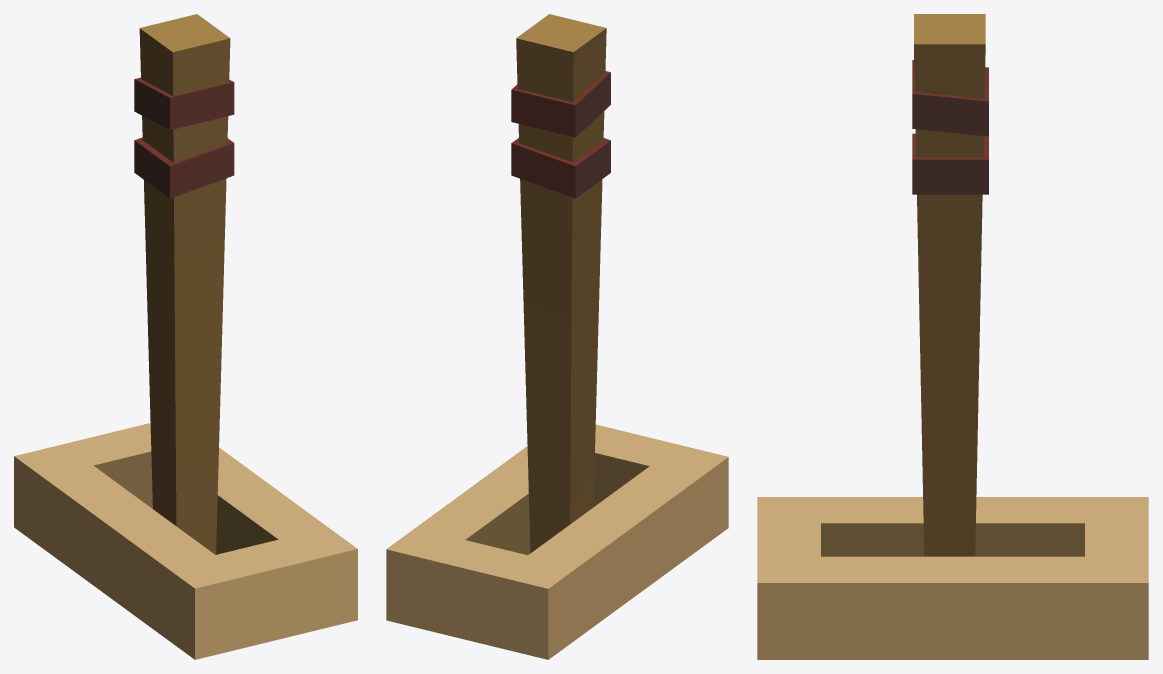
File: ST_Prop_Lever_01.fbx
3 views of the same model, side by side, from view 1: azimuth 30°, elevation 25°; view 2: azimuth 150°, elevation 25°; view 3: azimuth 270°, elevation 25° (orthographic). The views are drawn at different scales.
Parts seen in each view (by area): view 1: ST_Prop_Lever_01, ST_Prop_Lever_Handle_01; view 2: ST_Prop_Lever_01, ST_Prop_Lever_Handle_01; view 3: ST_Prop_Lever_01, ST_Prop_Lever_Handle_01.
Boxes of the visible parts, x1,y1,x2,y2 form: ST_Prop_Lever_01: (14, 423, 357, 659); ST_Prop_Lever_Handle_01: (134, 14, 234, 554); ST_Prop_Lever_01: (386, 424, 728, 659); ST_Prop_Lever_Handle_01: (511, 14, 610, 552); ST_Prop_Lever_01: (757, 497, 1148, 659); ST_Prop_Lever_Handle_01: (912, 14, 988, 556).
Size of the model in its own units: 0.7006 by 2.23 by 1.35.
